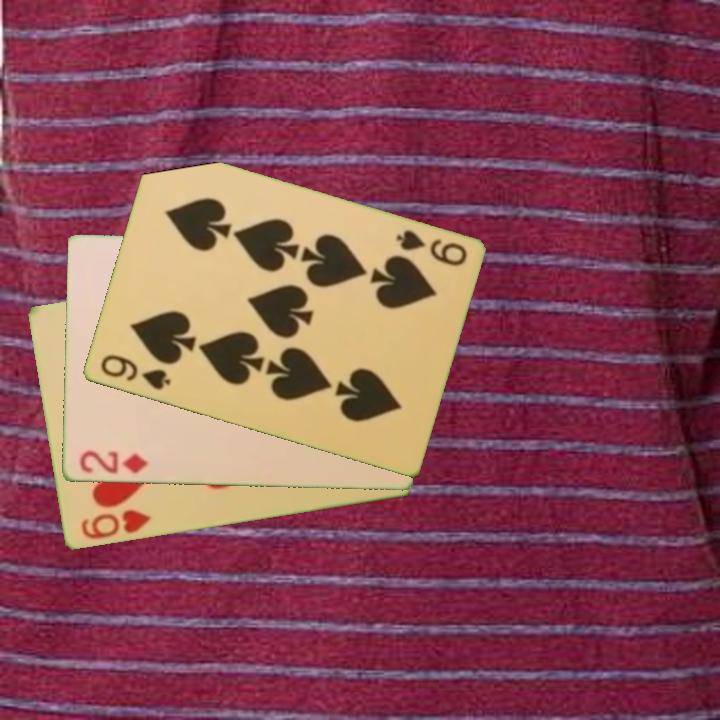2d: (75, 447, 150, 477)
6h: (77, 506, 153, 543)
9s: (392, 226, 470, 270), (96, 351, 173, 394)
